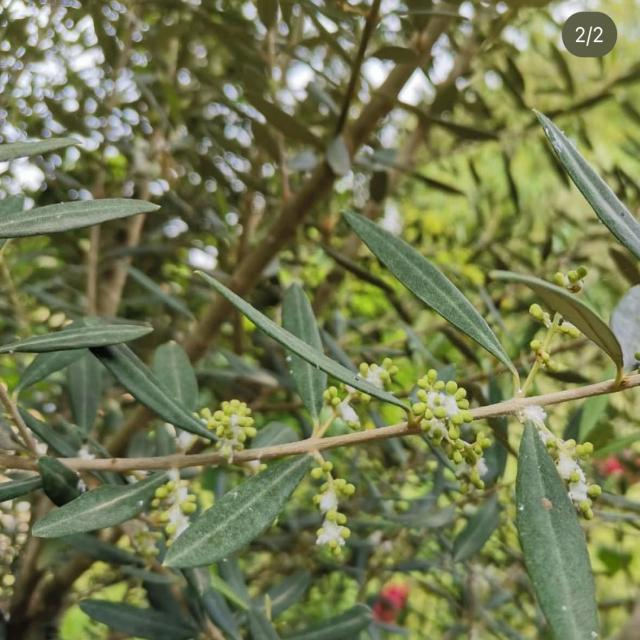Psyllid: (412, 369, 489, 493), (517, 406, 601, 518), (312, 454, 354, 556), (200, 400, 256, 462), (152, 469, 196, 546), (324, 384, 368, 430), (534, 308, 580, 344), (359, 358, 399, 390), (554, 266, 585, 294)
